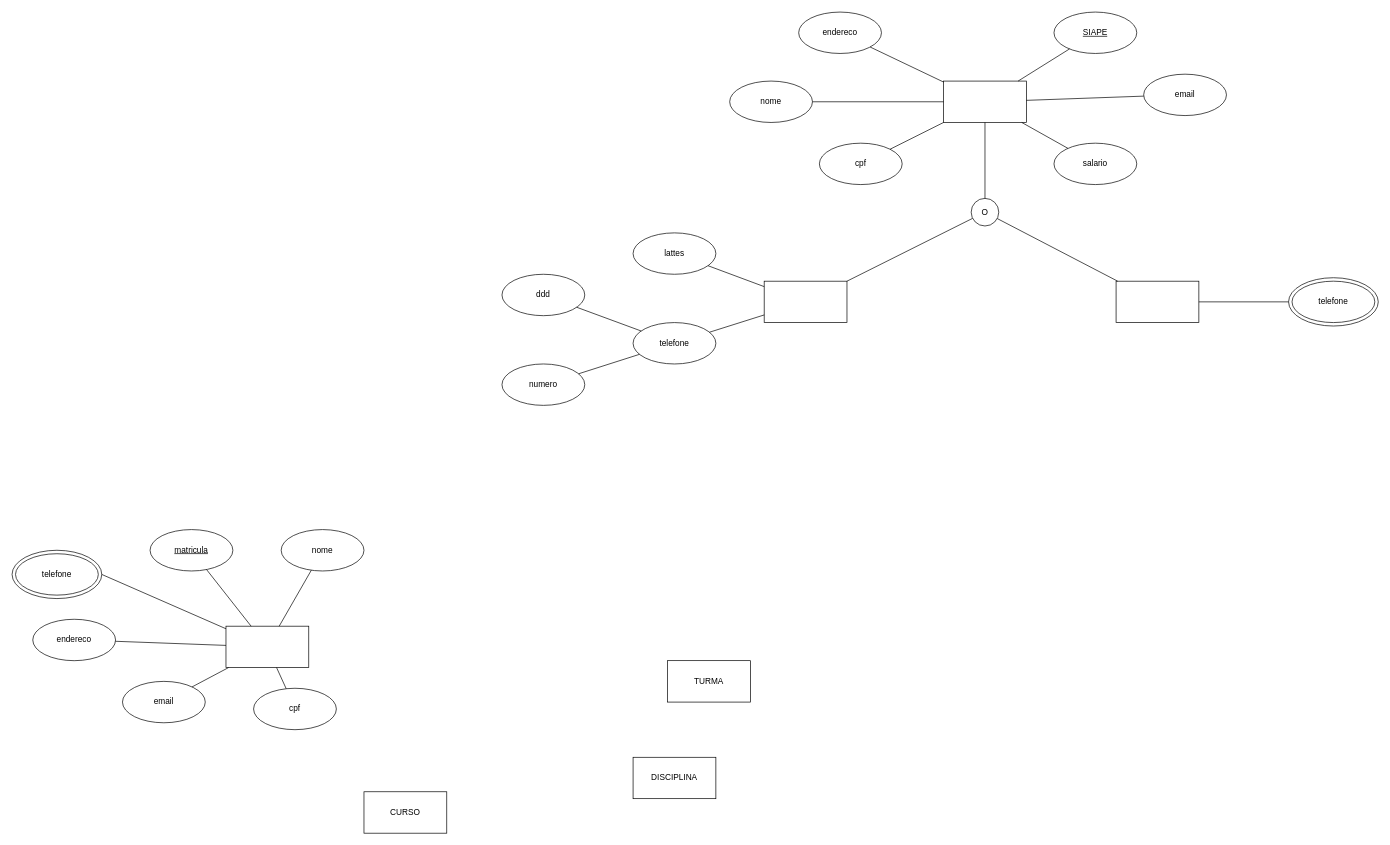
The diagram is 1390 pixels wide and 845 high, and some of its shapes have lost their labels. The shapes that lost their labels are listed below. From the top down, each one's centre as x and y in pixels, then its label:
the point at 984,101: SERVIDOR
the point at 805,301: PROFESSOR
the point at 1157,301: ADMINISTRATIVO
the point at 267,646: ALUNO
